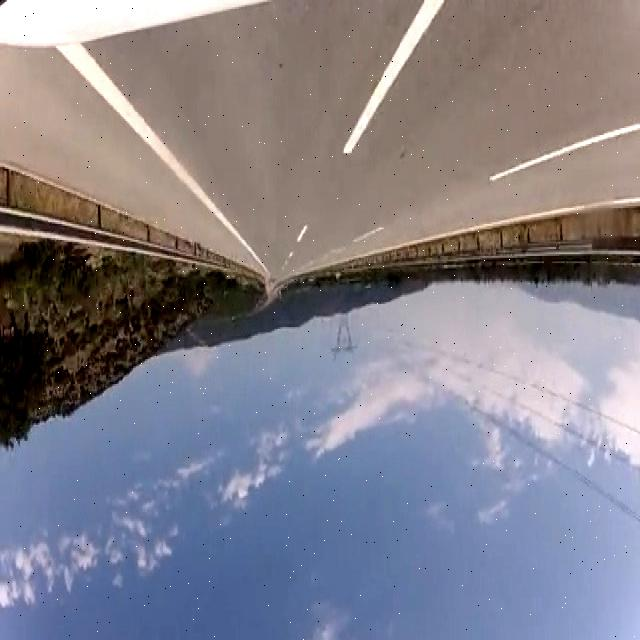lane: (58, 44, 269, 276), (344, 2, 444, 153)
road: (86, 4, 640, 284), (1, 46, 262, 274)
